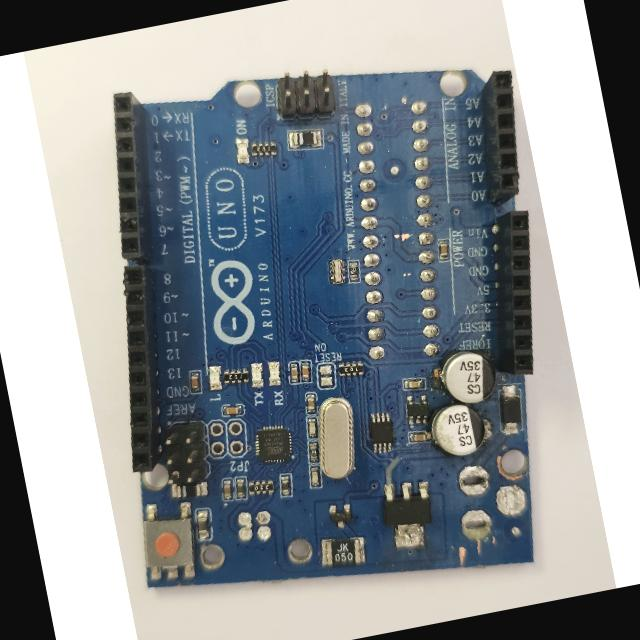missing_atmega: (350, 94, 447, 366)
missing_eps: (456, 461, 511, 554)
missing_usb: (217, 498, 317, 576)
